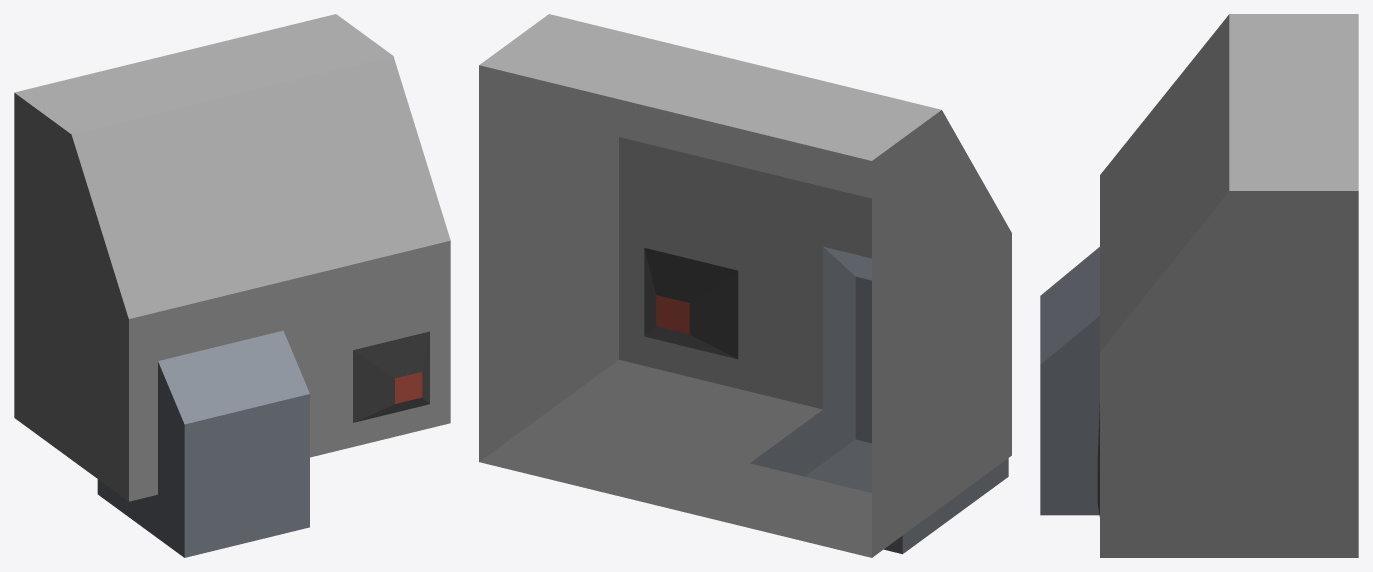
Rendered from SO_HandDryer.fbx.
The picture shows the model from 3 angles, left to right: view 1: azimuth 30°, elevation 25°; view 2: azimuth 150°, elevation 25°; view 3: azimuth 270°, elevation 25°; orthographic projection. The views are drawn at different scales.
Parts seen in each view (by area): view 1: SO_HandDryer; view 2: SO_HandDryer; view 3: SO_HandDryer.
Part boxes in pixels (box(x1,y1,x2,y2)): SO_HandDryer: box(14, 14, 450, 557); SO_HandDryer: box(479, 14, 1011, 557); SO_HandDryer: box(1040, 14, 1358, 557).
Size of the model in its own units: 0.7142 by 0.7828 by 0.5426.
